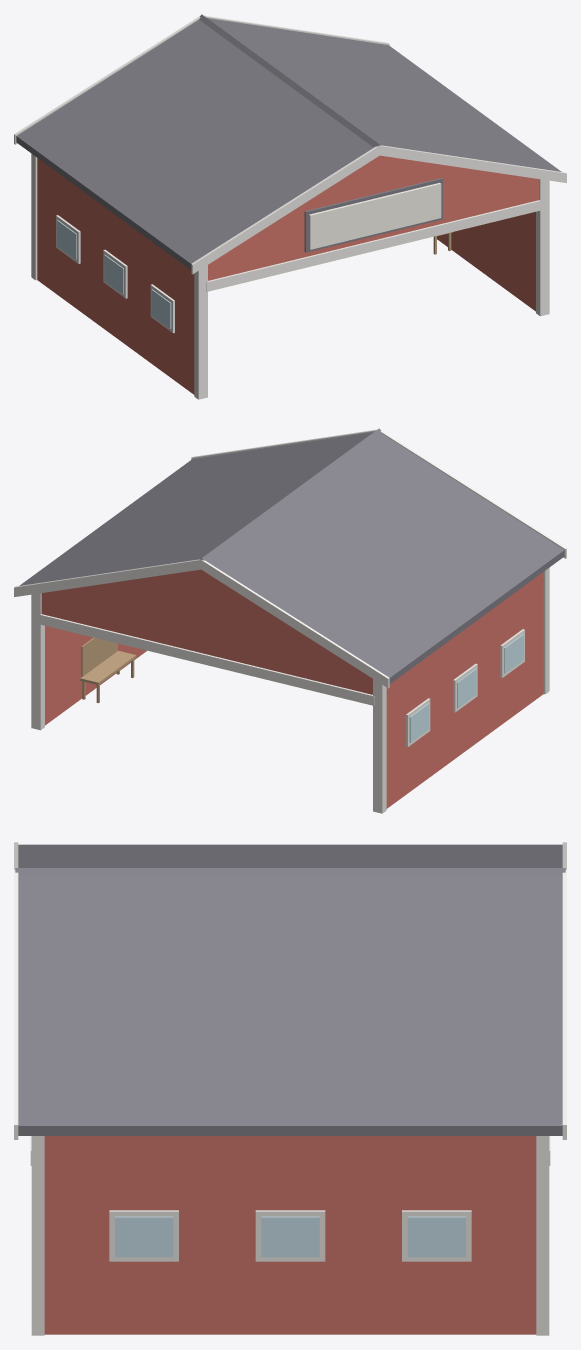
File: shed.glb
3 views of the same model, one above another, from view 1: azimuth 30°, elevation 25°; view 2: azimuth 150°, elevation 25°; view 3: azimuth 270°, elevation 25° (orthographic). The views are drawn at different scales.
Visible parts, largest first — view 1: roof_slab, wall_R, gable_F, fascia, wall_L, signboard, corners, beam_F, window_glass_R, ridge_cap, sign_frame, window_frames_R; view 2: roof_slab, gable_B, wall_R, fascia, corners, beam_B, wall_L, bench_L, window_glass_R, ridge_cap, window_frames_R; view 3: roof_slab, wall_L, window_glass_L, corners, ridge_cap, window_frames_L, fascia.
Part boxes in pixels (left/top/right/bottom): roof_slab: left=16, top=18, right=561, bottom=269; wall_R: left=37, top=158, right=194, bottom=394; gable_F: left=208, top=155, right=539, bottom=280; fascia: left=14, top=15, right=566, bottom=274; wall_L: left=437, top=211, right=535, bottom=311; signboard: left=309, top=182, right=441, bottom=249; corners: left=31, top=153, right=549, bottom=399; beam_F: left=206, top=200, right=541, bottom=291; window_glass_R: left=57, top=220, right=171, bottom=328; ridge_cap: left=199, top=14, right=380, bottom=147; sign_frame: left=304, top=178, right=442, bottom=252; window_frames_R: left=56, top=215, right=174, bottom=333; roof_slab: left=19, top=432, right=564, bottom=683; gable_B: left=41, top=569, right=372, bottom=694; wall_R: left=386, top=572, right=543, bottom=808; fascia: left=14, top=429, right=566, bottom=688; corners: left=31, top=567, right=549, bottom=813; beam_B: left=39, top=614, right=374, bottom=705; wall_L: left=45, top=625, right=146, bottom=725; bench_L: left=80, top=637, right=136, bottom=703; window_glass_R: left=409, top=634, right=523, bottom=742; ridge_cap: left=200, top=428, right=381, bottom=561; window_frames_R: left=406, top=629, right=524, bottom=747; roof_slab: left=18, top=844, right=562, bottom=1135; wall_L: left=44, top=1136, right=536, bottom=1334; window_glass_L: left=115, top=1216, right=465, bottom=1257; corners: left=31, top=1136, right=549, bottom=1335; ridge_cap: left=15, top=868, right=565, bottom=876; window_frames_L: left=109, top=1210, right=471, bottom=1261; fascia: left=14, top=842, right=566, bottom=1139.
Bounding box in the file's own units: 18.3 × 10.11 × 15.12.
